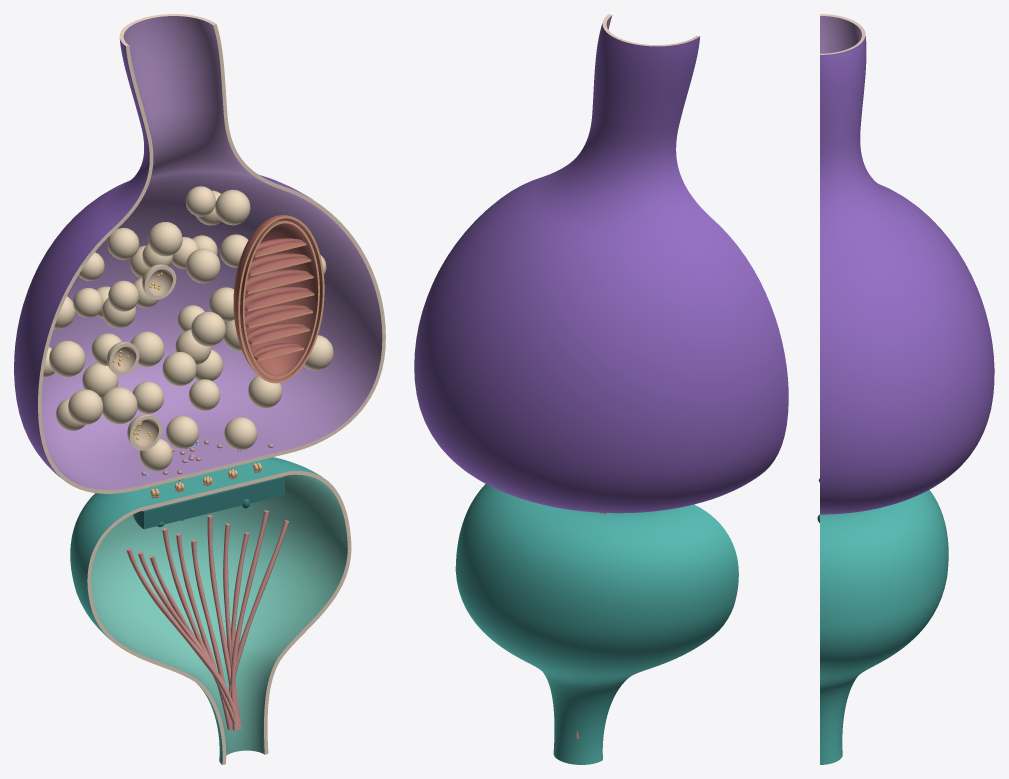
The model's file is synaps.glb.
The picture shows the model from 3 angles, left to right: view 1: azimuth 30°, elevation 25°; view 2: azimuth 150°, elevation 25°; view 3: azimuth 270°, elevation 25°; orthographic projection. The views are drawn at different scales.
Visible parts, largest first — view 1: Presynaptic_terminal_membrane.001, Postsynaptic_spine_membrane.001, Spine_actin.001, Mitochondrion_cristae.001, Mitochondrion_inner_membrane.001, Postsynaptic_density.001, Mitochondrion_outer_membrane.001, Vesicle_031.001, Vesicle_037.001, Vesicle_019.001, Vesicle_008.001, Vesicle_section_001.001 (+22 smaller); view 2: Presynaptic_terminal_membrane.001, Postsynaptic_spine_membrane.001; view 3: Presynaptic_terminal_membrane.001, Postsynaptic_spine_membrane.001.
Boxes of the visible parts, x1,y1,x2,y2 form: Presynaptic_terminal_membrane.001: [14, 14, 385, 493]; Postsynaptic_spine_membrane.001: [70, 457, 351, 764]; Spine_actin.001: [126, 510, 289, 730]; Mitochondrion_cristae.001: [244, 238, 314, 360]; Mitochondrion_inner_membrane.001: [240, 220, 319, 378]; Postsynaptic_density.001: [133, 476, 284, 529]; Mitochondrion_outer_membrane.001: [233, 215, 324, 383]; Vesicle_031.001: [101, 387, 137, 424]; Vesicle_037.001: [49, 340, 85, 377]; Vesicle_019.001: [215, 189, 250, 225]; Vesicle_008.001: [68, 389, 103, 424]; Vesicle_section_001.001: [127, 414, 162, 450]; Presynaptic_terminal_membrane.001: [414, 14, 788, 513]; Postsynaptic_spine_membrane.001: [455, 484, 738, 764]; Presynaptic_terminal_membrane.001: [820, 14, 994, 514]; Postsynaptic_spine_membrane.001: [820, 490, 948, 764].
Size of the model in its own units: 4.83 by 9.85 by 2.3.
